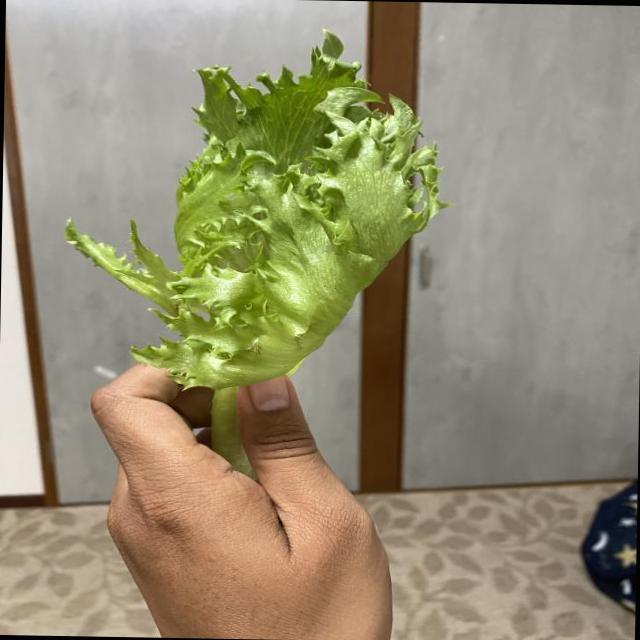Lettuce-Ready-to-Harvest: (65, 33, 443, 473)
